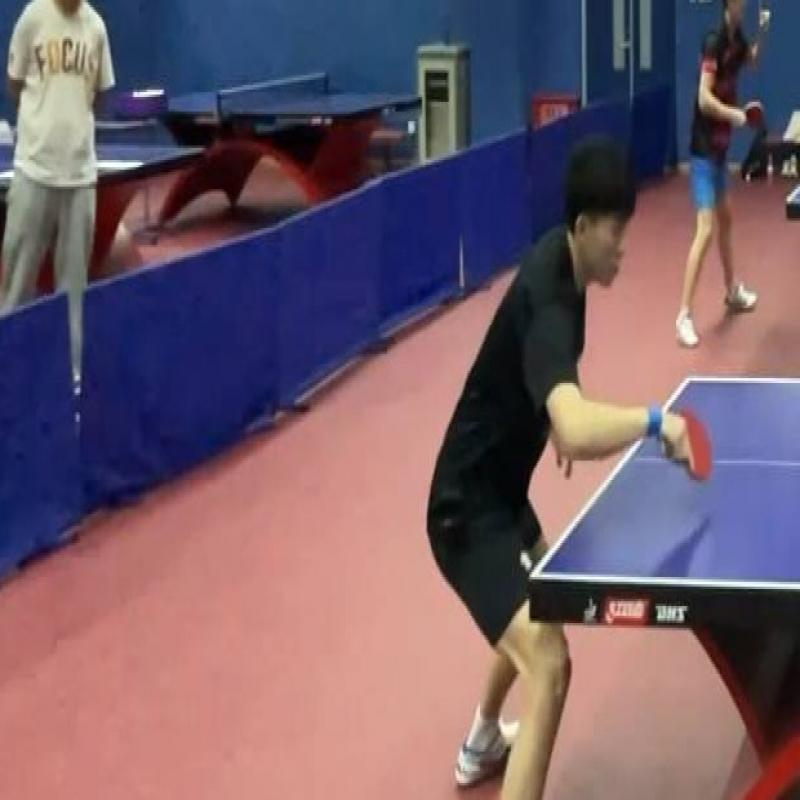bats: (670, 400, 718, 487)
